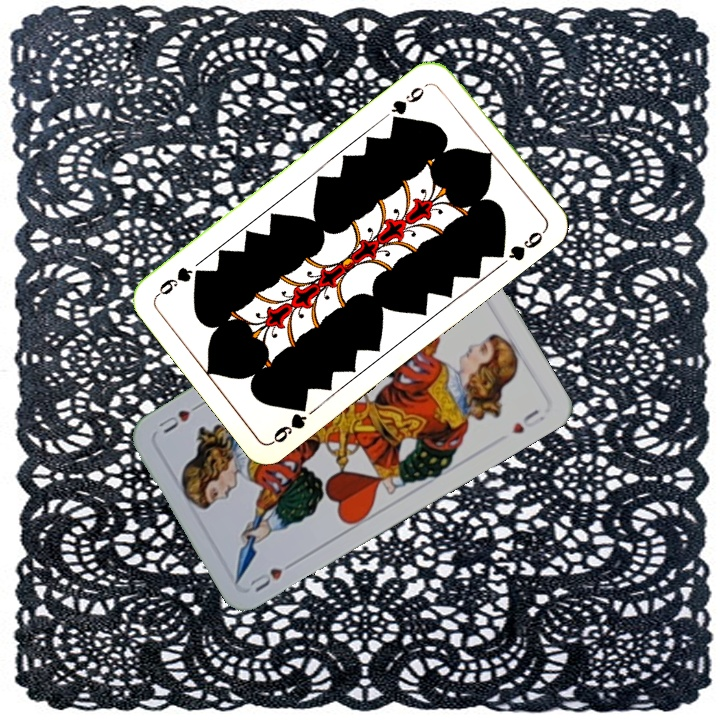G9: (387, 78, 433, 126), (268, 396, 310, 446)
HU: (246, 556, 300, 595)
